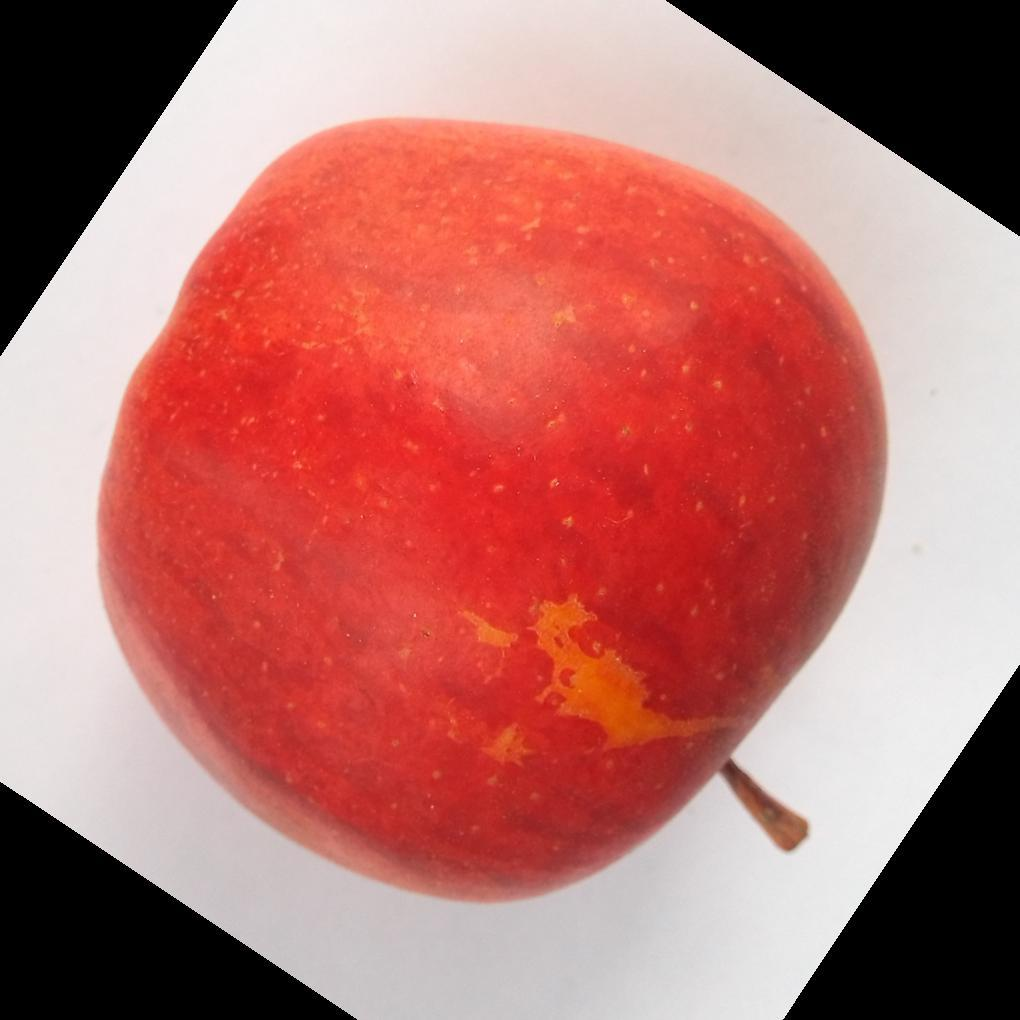FreshGuava: (93, 119, 891, 909)
